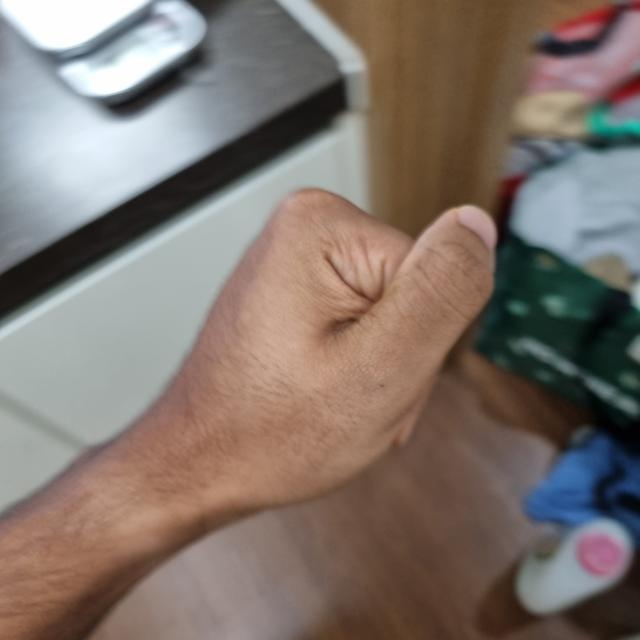Rock: (123, 188, 497, 518)
